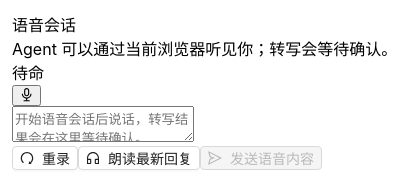
VoiceConversationPanel › announces voice state changes without relying on color only
Click the button named "开始语音会话".
click(27, 96)  # box left=12, top=85, right=41, bottom=106
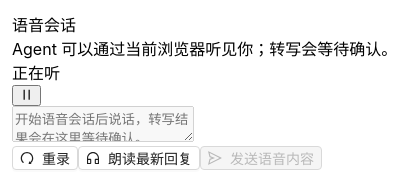
Check: the message reads "正在听", box left=12, top=63, right=60, bottom=83
